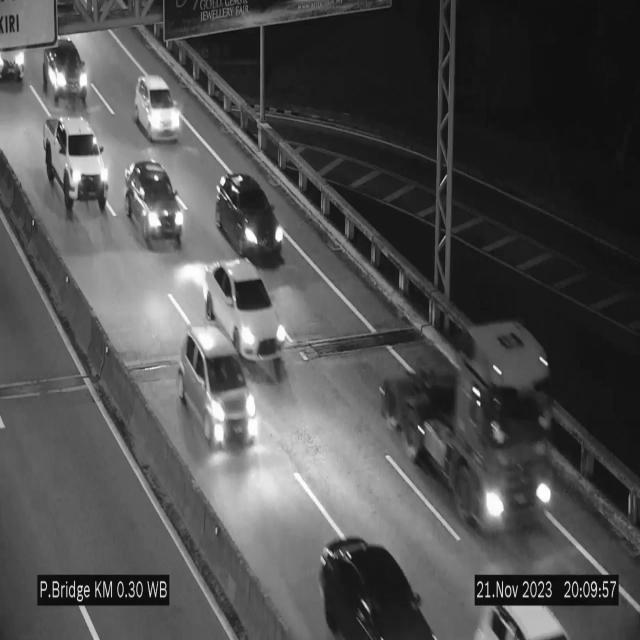Car: (306, 518, 438, 640), (178, 327, 252, 445), (204, 260, 284, 362), (41, 115, 110, 219), (216, 173, 282, 259), (125, 161, 183, 247), (470, 593, 558, 640), (44, 32, 90, 115), (134, 74, 180, 141)
Truck: (374, 299, 554, 542)
